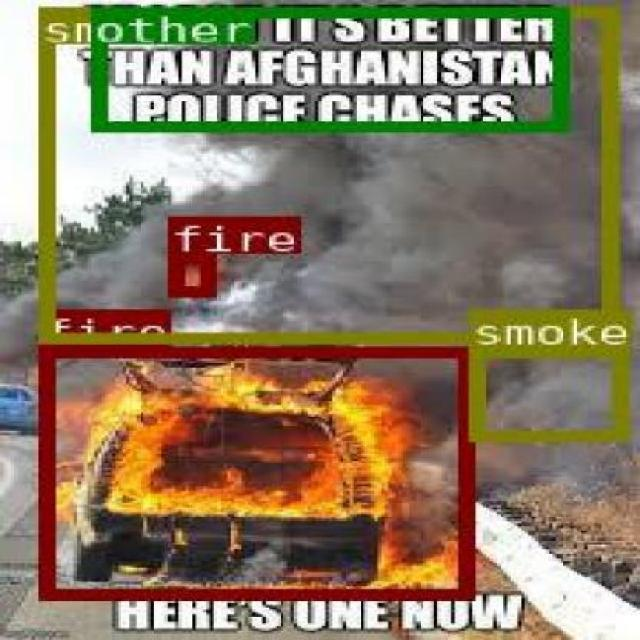Fire: (38, 345, 468, 598)
Smoke: (312, 137, 606, 289), (466, 346, 624, 439)
